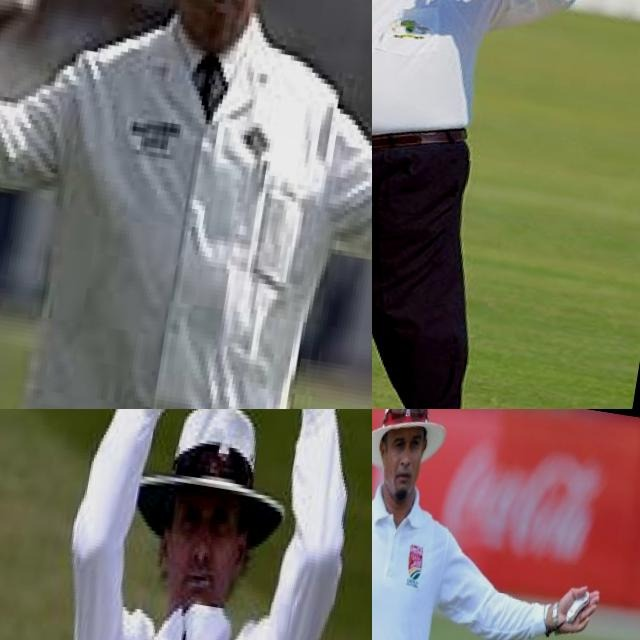Six: (372, 0, 640, 409), (11, 409, 372, 640)
Wide: (0, 0, 372, 409), (372, 409, 635, 640)
